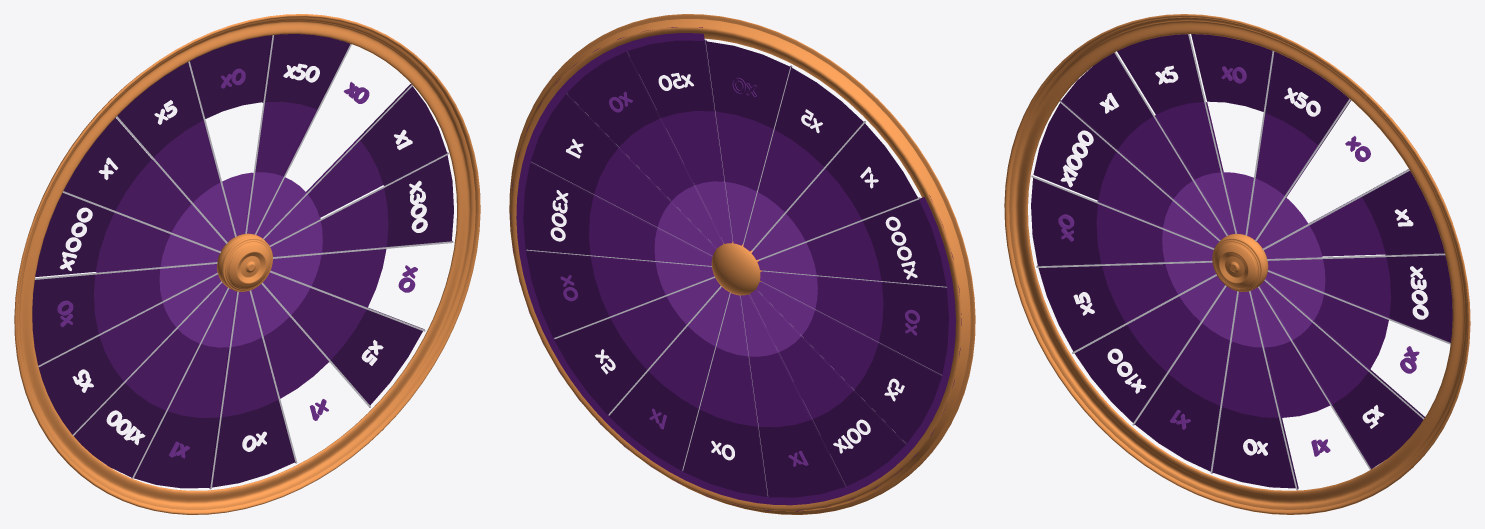
The model's file is wheel-new.glb.
The picture shows the model from 3 angles, left to right: view 1: azimuth 30°, elevation 25°; view 2: azimuth 150°, elevation 25°; view 3: azimuth 330°, elevation 25°; orthographic projection.
Parts seen in each view (by area): view 1: Circle.016, face6, face10, face1.2, face5, face4, face3.2, face2.1, face7, face3.1, face8, face3 (+5 smaller); view 2: Circle.016, face1, face6, face10, face1.2, face4, face5, face7, face1.1, face2.1, face3.1, face3 (+5 smaller); view 3: Circle.016, face1.2, face6, face10, face5, face3.1, face7, face8, face4, face3, face2, face2.1 (+5 smaller).
Boxes of the visible parts, x1,y1,x2,y2 form: Circle.016: [14, 14, 480, 514]; face6: [212, 291, 294, 487]; face10: [270, 155, 453, 255]; face1.2: [32, 264, 217, 364]; face5: [134, 288, 235, 488]; face4: [247, 34, 348, 233]; face3.2: [263, 272, 422, 405]; face2.1: [264, 86, 446, 244]; face7: [35, 193, 219, 277]; face3.1: [38, 274, 220, 433]; face8: [74, 282, 226, 476]; face3: [117, 63, 234, 242]; Circle.016: [509, 14, 975, 514]; face1: [705, 41, 789, 245]; face6: [683, 293, 766, 496]; face10: [523, 163, 712, 265]; face1.2: [760, 272, 948, 374]; face4: [627, 40, 731, 243]; face5: [740, 294, 844, 497]; face7: [757, 200, 946, 286]; face1.1: [526, 251, 714, 338]; face2.1: [530, 94, 715, 255]; face3.1: [756, 282, 941, 443]; face3: [743, 67, 863, 251]; Circle.016: [1004, 14, 1470, 514]; face1.2: [1031, 178, 1213, 265]; face6: [1213, 291, 1295, 488]; face10: [1268, 255, 1452, 341]; face5: [1135, 286, 1236, 471]; face3.1: [1038, 262, 1215, 351]; face7: [1033, 103, 1219, 247]; face8: [1074, 276, 1224, 422]; face4: [1248, 52, 1349, 239]; face3: [1117, 34, 1235, 234]; face2: [1062, 53, 1226, 239]; face2.1: [1264, 171, 1444, 258].
Size of the model in its own units: 7.41 by 7.41 by 0.4421.
60 materials, 1 textured.
